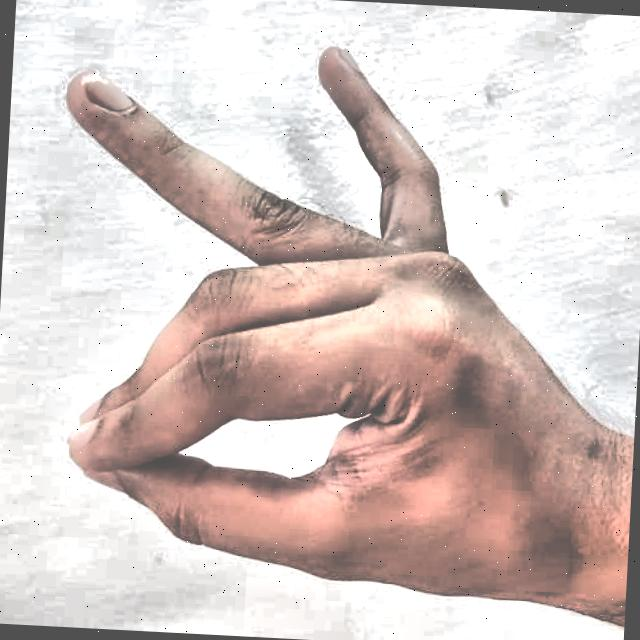Na: (19, 3, 610, 640)
